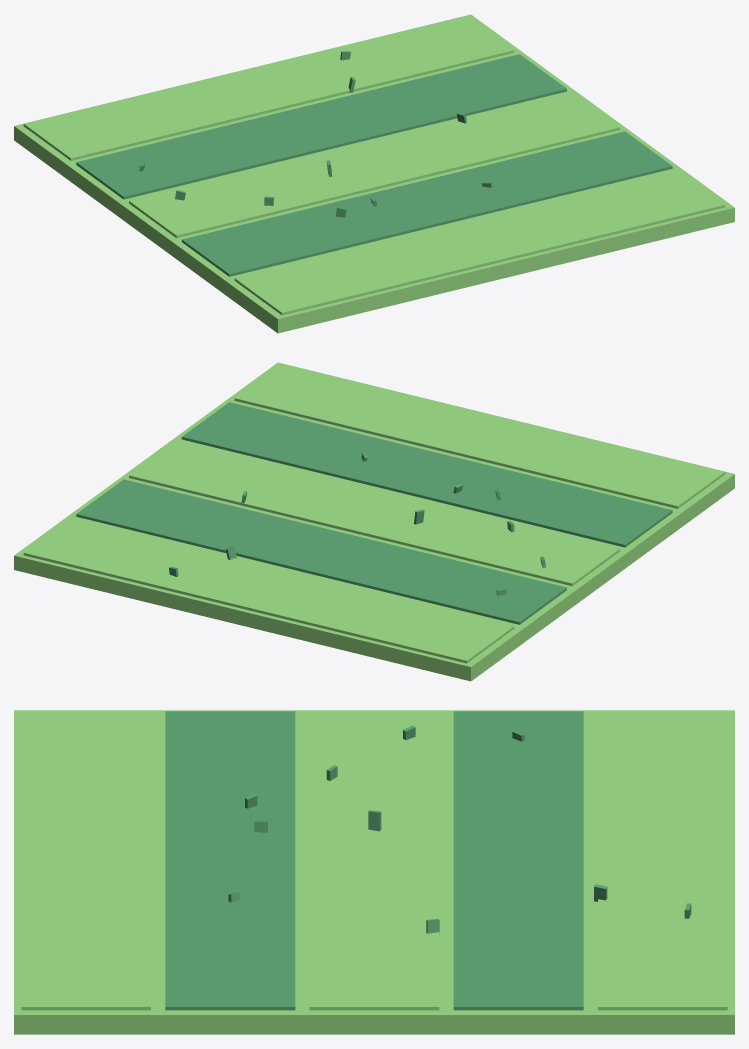
File: lawn-mowing-simulator-kit-lawn-tile-2m-striped-7ec3edac__27386.glb
The picture shows the model from 3 angles, top to bottom: view 1: azimuth 30°, elevation 25°; view 2: azimuth 150°, elevation 25°; view 3: azimuth 270°, elevation 25°; orthographic projection. The views are drawn at different scales.
Visible parts, largest first — view 1: lawn-tile-2m-striped; view 2: lawn-tile-2m-striped; view 3: lawn-tile-2m-striped.
Part boxes in pixels (x1,y1,x2,y2): lawn-tile-2m-striped: [14, 14, 734, 333]; lawn-tile-2m-striped: [14, 362, 734, 681]; lawn-tile-2m-striped: [14, 710, 734, 1034].
Size of the model in its own units: 2 by 0.1248 by 2.
